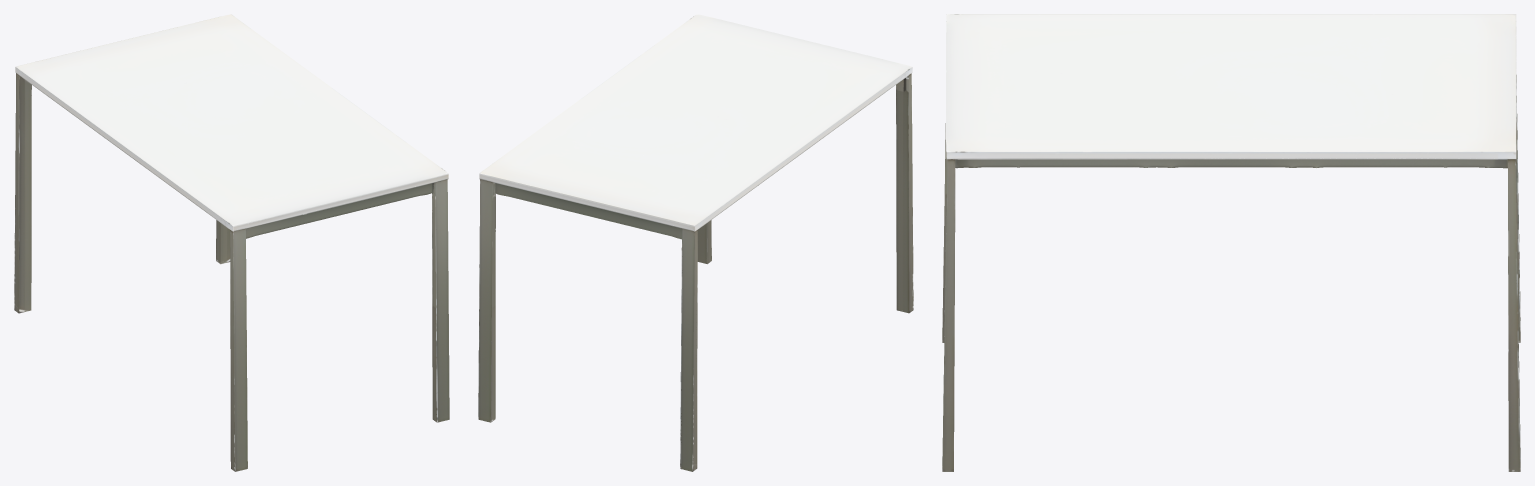
The model's file is rodin_base_basic_shaded.glb.
3 renders of one model, left to right at view 1: azimuth 30°, elevation 25°; view 2: azimuth 150°, elevation 25°; view 3: azimuth 270°, elevation 25°, orthographic. The views are drawn at different scales.
Visible parts, largest first — view 1: model; view 2: model; view 3: model.
Part boxes in pixels (bbox=[...]): model: bbox=[14, 14, 449, 471]; model: bbox=[478, 14, 913, 471]; model: bbox=[942, 14, 1520, 471].
Bounding box in the file's own units: 1.07 × 1.16 × 1.9.
1 material, 1 textured.
